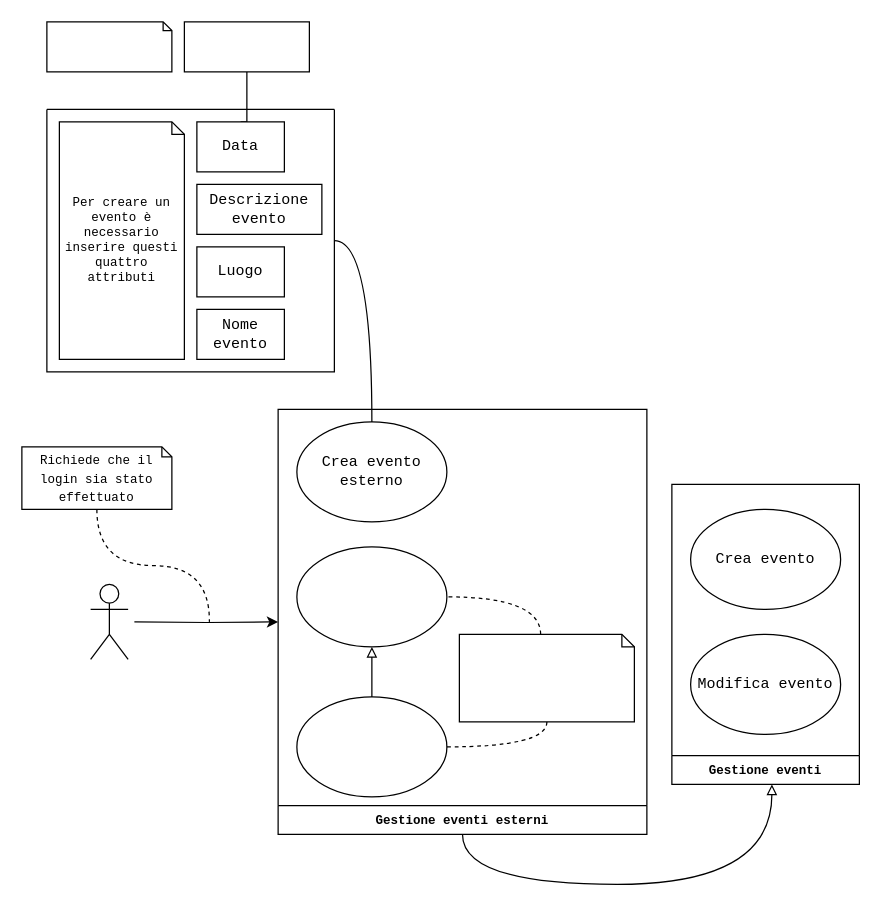
The diagram is 881 pixels wide and 906 high, and some of its shapes have lost their labels. Here are the shapes that lost their labels. From the top down, the centre of each, then its label:
At (x=109, y=46): "Questo attributo è opzionale".
At (x=246, y=46): "Evento con ripetizione?".
At (x=371, y=596): "Modifica evento esterno".
At (x=108, y=621): "Studente".
At (x=546, y=677): "Richiedono che lo studente sia il creatore dell'evento da modificare/eliminare".
At (x=371, y=746): "Elimina evento esterno".
